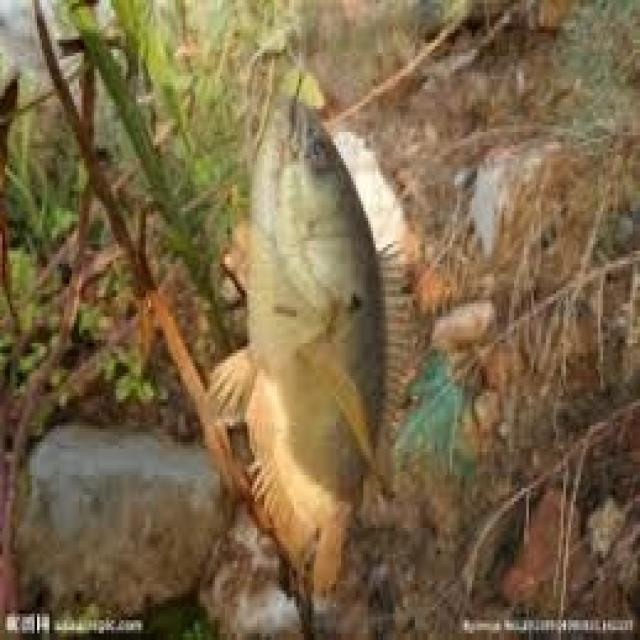Climbing-Perch: (235, 82, 442, 628)
